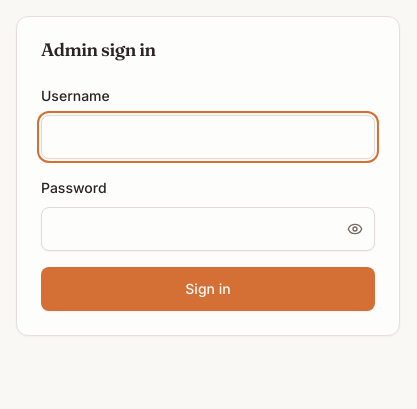
Test: AdminLogin — every failure mode says something actionable › F11: a 429 says to wait — NOT 'Invalid credentials'
This screenshot has width=417, height=409.
Type "admin" into the field labelled "Username" at (208, 137), box [41,115,375,159]
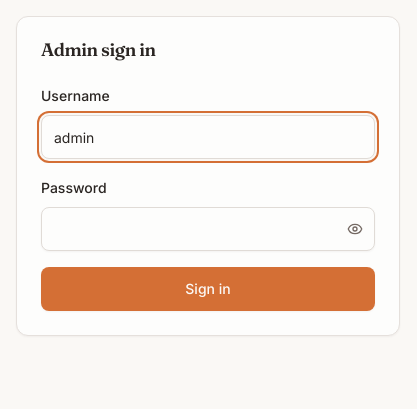
Type "s3cret" into the password field labelled "Password" at (208, 229), box [41,207,375,251]
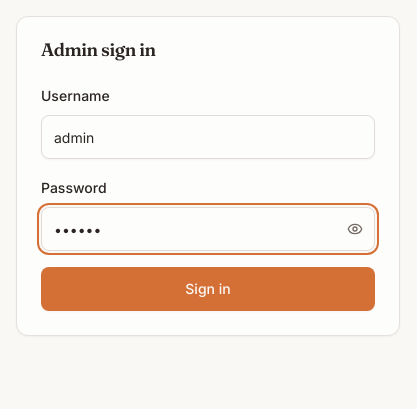
Click the button "Sign in" at (208, 289), box [41,267,375,311]
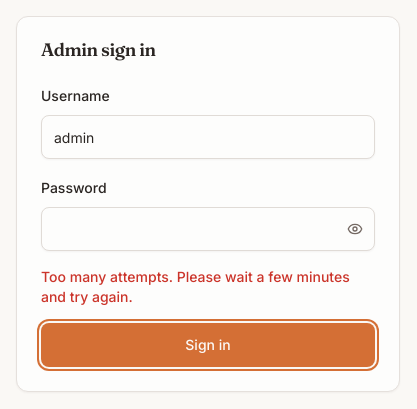
Expected: the message shows "Too many attempts", [41,268,350,305]
